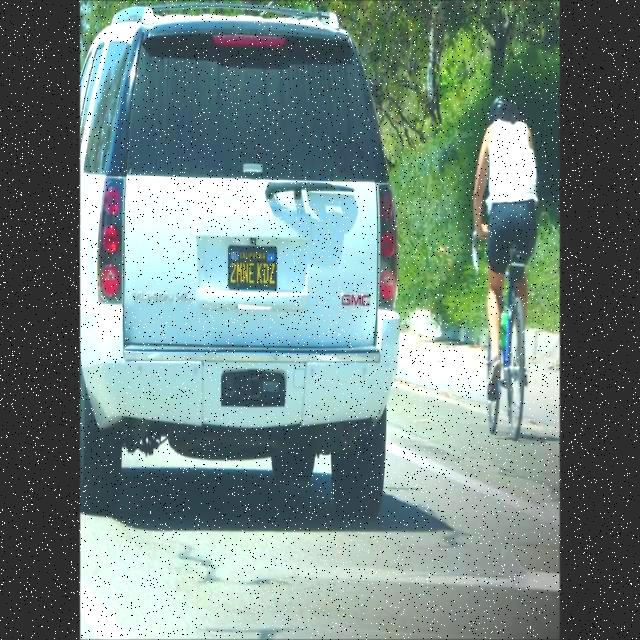licenseplate: (229, 243, 280, 289)
